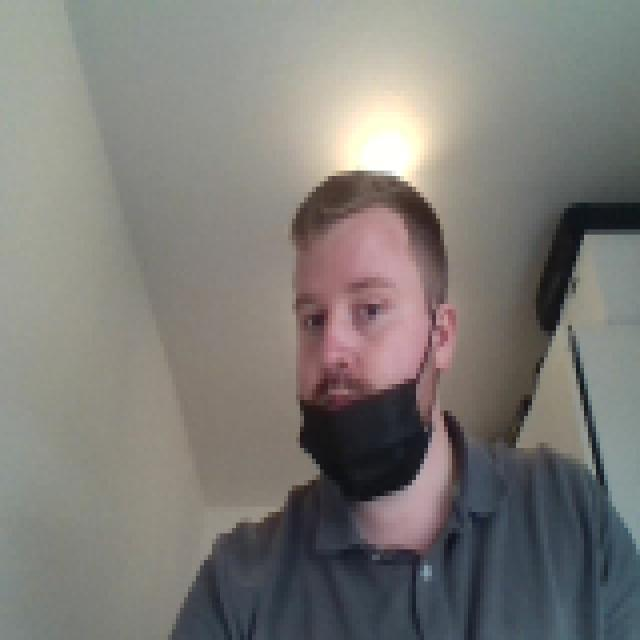hairnet: (276, 309, 460, 496)
